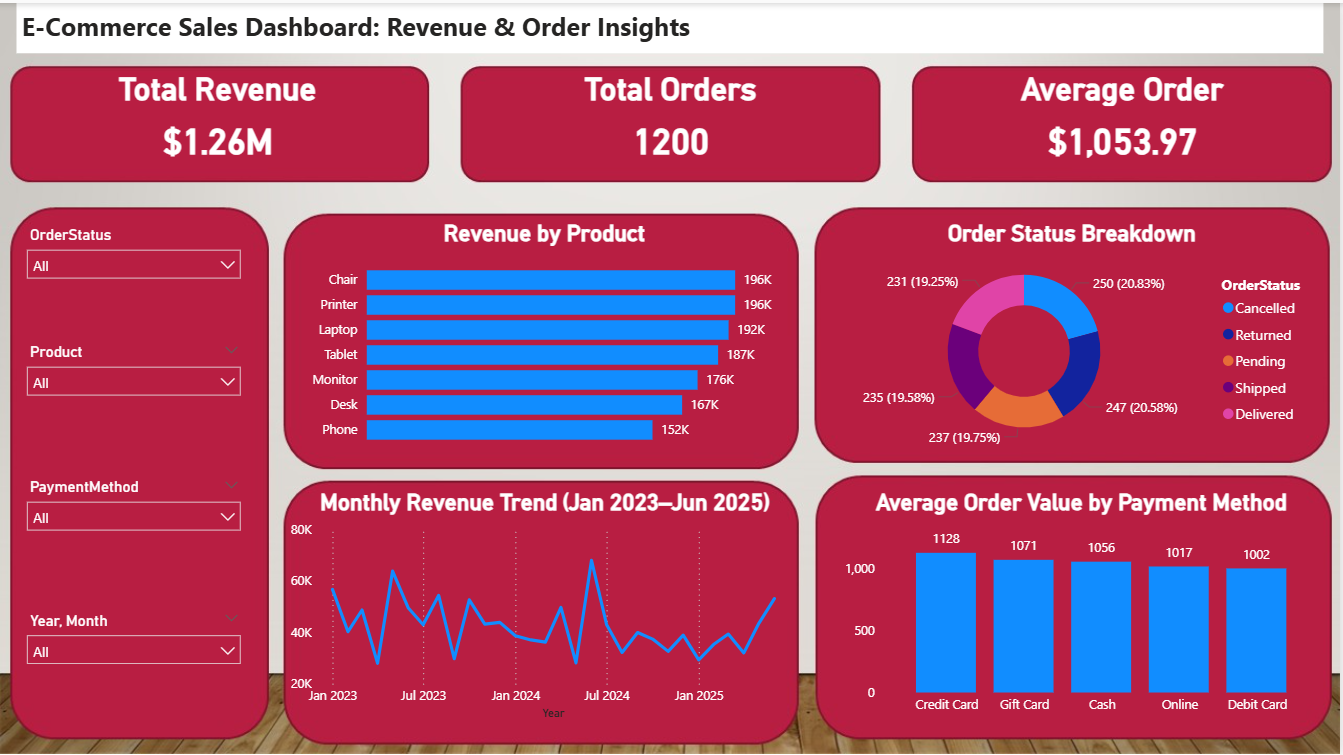

This screenshot's page, from the dashboard's own definition file:
{"tool":"powerbi","page":{"name":"Page 1","canvas":[1280,720],"ordinal":0},"visuals":[{"type":"lineChart","title":"Monthly Revenue Trend (Jan 2023–Jun 2025)","fields":{"Y":["Sum(Clean Data.TotalPrice)"],"Category":["Clean Data.Date.Variation.Date Hierarchy.Year","Clean Data.Date.Variation.Date Hierarchy.Month"]},"box":[272,464,496,224],"z":0},{"type":"card","title":"Total Revenue","fields":{"Values":["Sum(Clean Data.TotalPrice)"]},"box":[16,64,384,96],"z":1000},{"type":"card","title":"Total Orders ","fields":{"Values":["CountNonNull(Clean Data.OrderID)"]},"box":[448,64,384,96],"z":2000},{"type":"card","title":"Average Order","fields":{"Values":["Avg(Clean Data.TotalPrice)"]},"box":[880,64,384,96],"z":3000},{"type":"barChart","title":"Revenue by Product","fields":{"Category":["Clean Data.Product"],"Y":["Sum(Clean Data.TotalPrice)"]},"box":[288,208,464,224],"z":4000},{"type":"donutChart","title":"Order Status Breakdown","fields":{"Y":["CountNonNull(Clean Data.OrderStatus)"],"Category":["Clean Data.OrderStatus"]},"box":[784,208,480,224],"z":5000},{"type":"columnChart","title":"Average Order Value by Payment Method","fields":{"Category":["Clean Data.PaymentMethod"],"Y":["Avg(Clean Data.TotalPrice)"]},"box":[800,464,464,224],"z":6000},{"type":"textbox","box":[16,0,1248,48],"z":7000},{"type":"slicer","fields":{"Values":["Clean Data.OrderStatus"]},"box":[16,208,224,80],"z":8000},{"type":"slicer","fields":{"Values":["Clean Data.Product"]},"box":[16,320,224,80],"z":9000},{"type":"slicer","fields":{"Values":["Clean Data.PaymentMethod"]},"box":[16,448,224,80],"z":10000},{"type":"slicer","fields":{"Values":["Clean Data.Date.Variation.Date Hierarchy.Year","Clean Data.Date.Variation.Date Hierarchy.Month"]},"box":[16,576,224,80],"z":11000}]}

Visuals, with their boxes in screenshot pixels (x1, y1, x2, y2), scaled from the page's 1280x720 canvas onto the 1343x755 screenshot:
"Monthly Revenue Trend (Jan 2023–Jun 2025)" lineChart: 285:487:806:721
"Total Revenue" card: 17:67:420:168
"Total Orders " card: 470:67:873:168
"Average Order" card: 923:67:1326:168
"Revenue by Product" barChart: 302:218:789:453
"Order Status Breakdown" donutChart: 823:218:1326:453
"Average Order Value by Payment Method" columnChart: 839:487:1326:721
textbox: 17:0:1326:50
slicer - Clean Data.OrderStatus: 17:218:252:302
slicer - Clean Data.Product: 17:336:252:419
slicer - Clean Data.PaymentMethod: 17:470:252:554
slicer - Clean Data.Date.Variation.Date Hierarchy.Year x Clean Data.Date.Variation.Date Hierarchy.Month: 17:604:252:688
